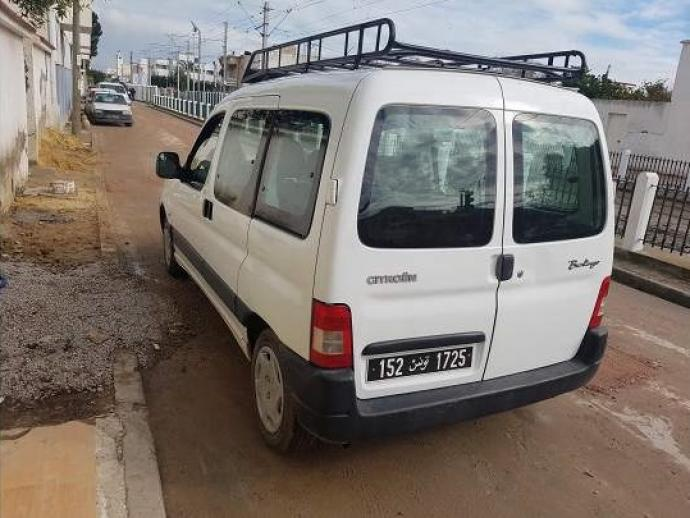LP: (367, 348, 479, 380)
